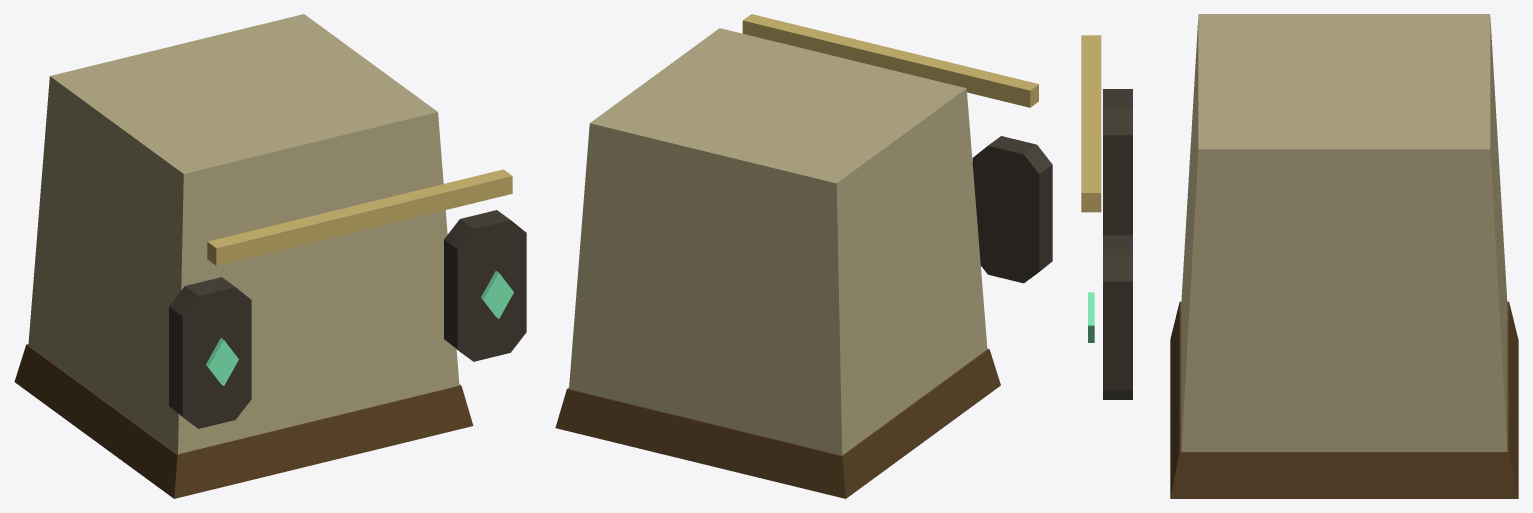
Rendered from golden_scripture_chamber.obj.
3 views of the same model, side by side, from view 1: azimuth 30°, elevation 25°; view 2: azimuth 150°, elevation 25°; view 3: azimuth 270°, elevation 25° (orthographic). The views are drawn at different scales.
Visible parts, largest first — view 1: scripture_chamber, scripture_sill, chamber_window_0.26, chamber_window_-0.26, chamber_edge, chamber_edge_edge, chamber_window_0.26_edge, chamber_window_-0.26_edge, window_glint_-0.26, window_glint_0.26; view 2: scripture_chamber, scripture_sill, chamber_window_-0.26, chamber_edge, chamber_edge_edge, chamber_window_-0.26_edge; view 3: scripture_chamber, scripture_sill, chamber_window_0.26_edge, chamber_window_-0.26_edge, chamber_edge_edge.
Part boxes in pixels (x1,y1,x2,y2): scripture_chamber: (28,14,459,454); scripture_sill: (14,344,473,498); chamber_window_0.26: (457,220,526,361); chamber_window_-0.26: (182,287,251,428); chamber_edge: (216,176,512,265); chamber_edge_edge: (207,169,511,265); chamber_window_0.26_edge: (444,210,509,359); chamber_window_-0.26_edge: (169,277,234,425); window_glint_-0.26: (209,340,238,385); window_glint_0.26: (484,273,513,318); scripture_chamber: (569,28,987,455); scripture_sill: (555,348,1000,498); chamber_window_-0.26: (972,146,1039,283); chamber_edge: (742,20,1030,107); chamber_edge_edge: (743,14,1038,107); chamber_window_-0.26_edge: (988,136,1052,282); scripture_chamber: (1181,14,1507,451); scripture_sill: (1170,301,1518,498); chamber_window_0.26_edge: (1103,235,1132,399); chamber_window_-0.26_edge: (1103,89,1132,235); chamber_edge_edge: (1081,35,1101,212).
Bounding box in the file's own units: 0.65 × 0.56 × 0.6566.
